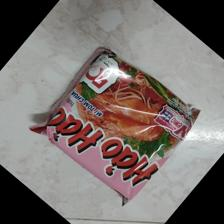Haohao: (29, 44, 202, 208)
